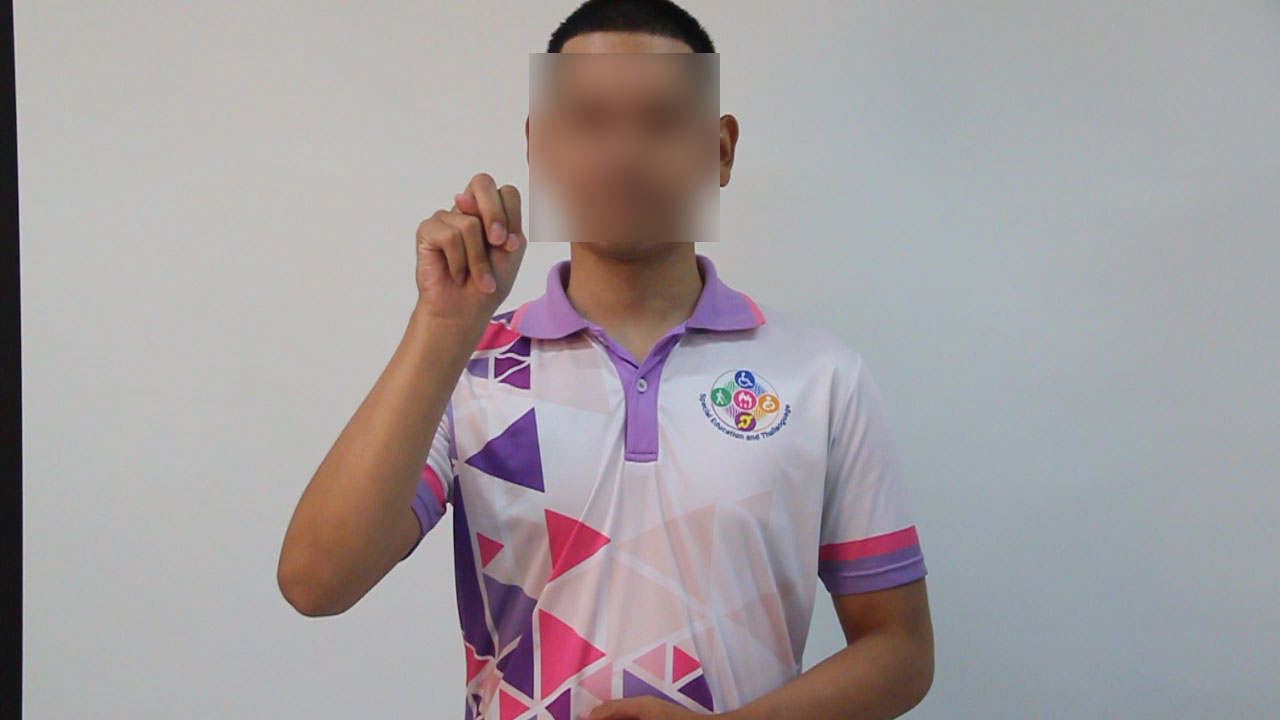nor: (403, 168, 543, 313)
